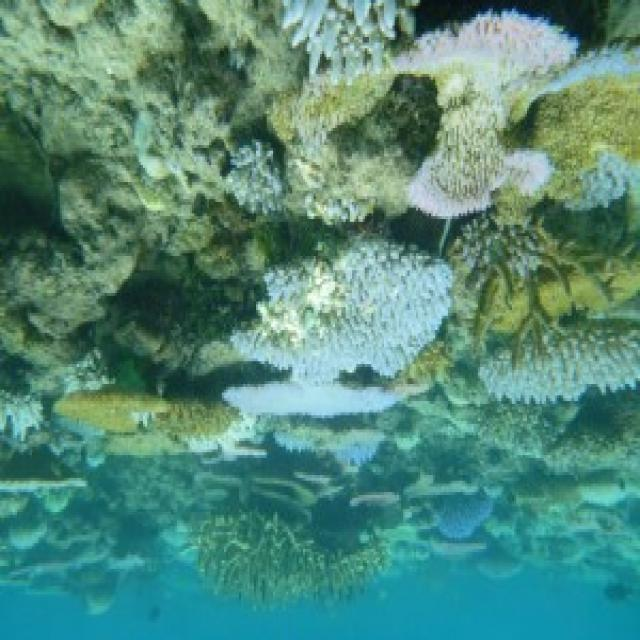Bleached: (411, 27, 542, 207), (245, 257, 452, 364), (498, 323, 640, 398), (236, 371, 401, 413)
Healthy: (198, 506, 393, 624), (63, 378, 225, 446), (292, 5, 419, 70), (436, 480, 499, 535)
